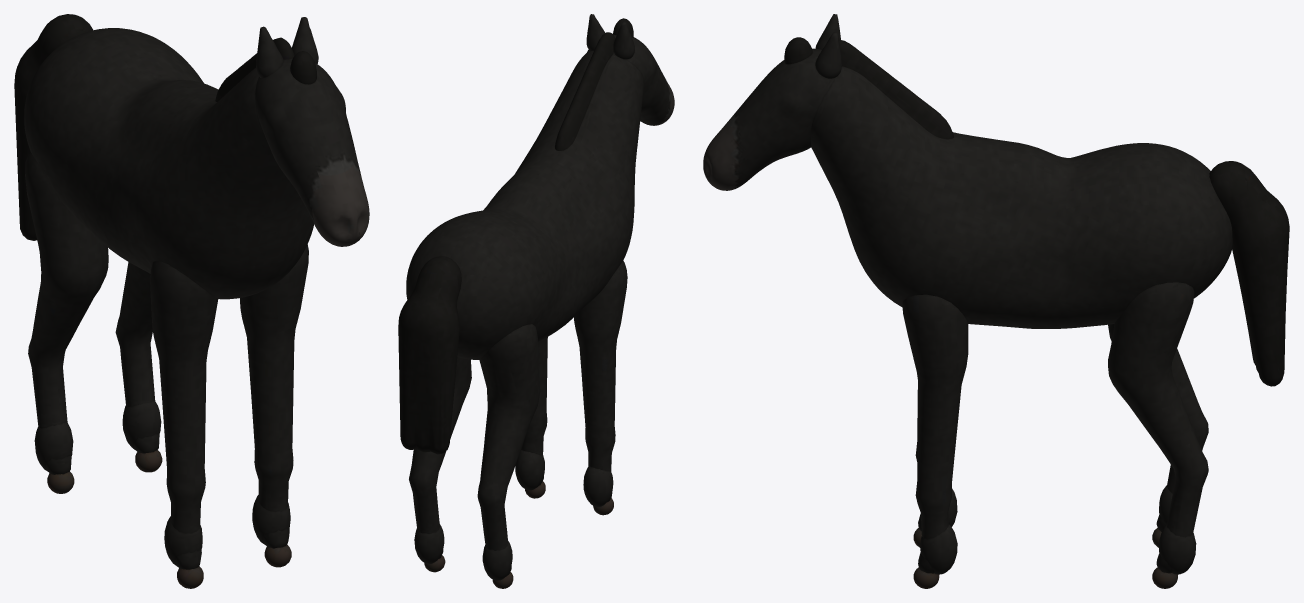
The model's file is animal_friesian.glb.
3 renders of one model, left to right at view 1: azimuth 30°, elevation 25°; view 2: azimuth 150°, elevation 25°; view 3: azimuth 270°, elevation 25°, orthographic. The views are drawn at different scales.
Visible parts, largest first — view 1: animal_friesian, head, leg0, leg2, leg1, leg3, tail; view 2: animal_friesian, tail, leg2, leg0, leg3, head, leg1; view 3: animal_friesian, leg3, leg1, head, tail, leg2.
Part boxes in pixels (<box>): animal_friesian: <box>24,28,313,299</box>; head: <box>255,17,369,246</box>; leg0: <box>150,261,218,588</box>; leg2: <box>25,150,108,493</box>; leg1: <box>240,244,308,567</box>; leg3: <box>115,262,162,472</box>; tail: <box>14,14,92,240</box>; animal_friesian: <box>406,32,643,359</box>; tail: <box>398,256,461,454</box>; leg2: <box>477,324,540,588</box>; leg0: <box>574,260,627,515</box>; leg3: <box>409,357,471,572</box>; head: <box>586,14,674,125</box>; leg1: <box>515,337,547,498</box>; animal_friesian: <box>811,39,1232,328</box>; leg3: <box>1108,282,1208,588</box>; leg1: <box>902,294,968,588</box>; head: <box>703,14,841,190</box>; tail: <box>1209,161,1289,386</box>; leg2: <box>1108,324,1208,547</box>.
Bounding box in the file's own units: 0.2312 × 0.8228 × 0.8035.
1 material, 1 textured.
